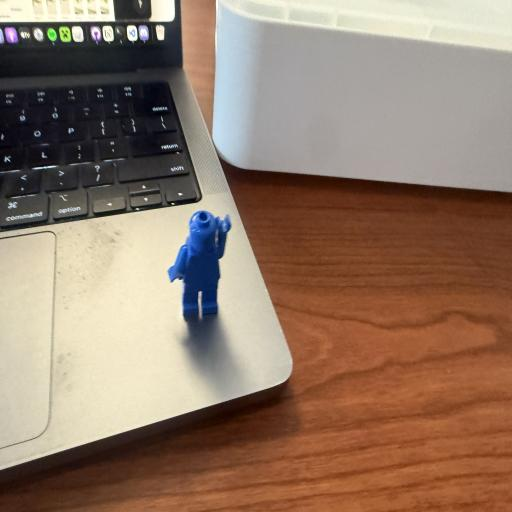Minifig: (168, 211, 230, 315)
